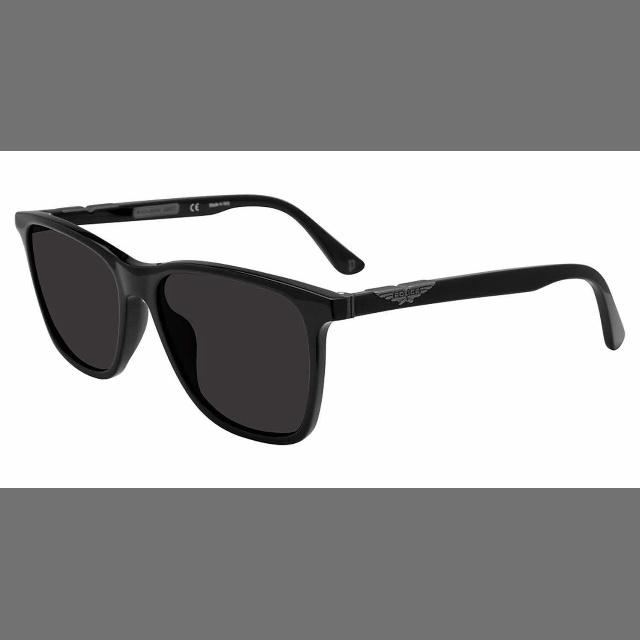Sunglasses: (4, 188, 628, 454)
